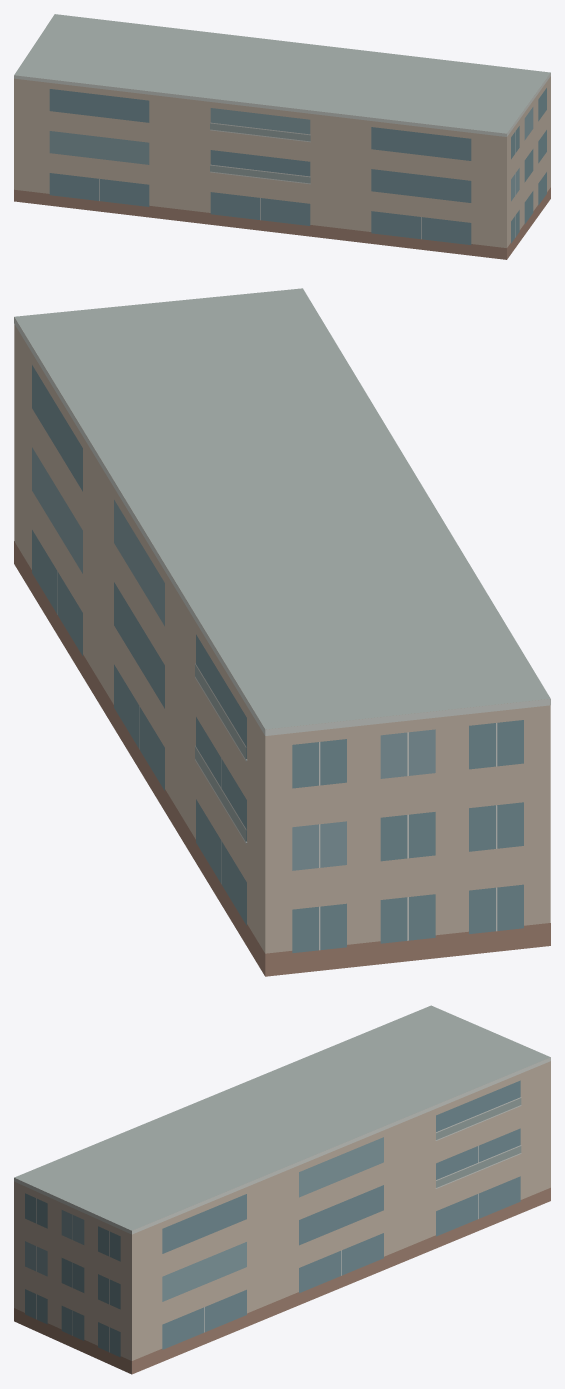
Rendered from survey-upis-32761574.glb.
3 views of the same model, one above another, from view 1: azimuth 30°, elevation 25°; view 2: azimuth 150°, elevation 25°; view 3: azimuth 270°, elevation 25° (orthographic). The views are drawn at different scales.
Parts seen in each view (by area): view 1: survey-upis-32761574.tmp; view 2: survey-upis-32761574.tmp; view 3: survey-upis-32761574.tmp.
Boxes of the visible parts, <box> form: survey-upis-32761574.tmp: <box>14,14,550,259</box>; survey-upis-32761574.tmp: <box>14,288,550,976</box>; survey-upis-32761574.tmp: <box>14,1005,550,1374</box>.
Bounding box in the file's own units: 30.78 × 9.15 × 30.98.
